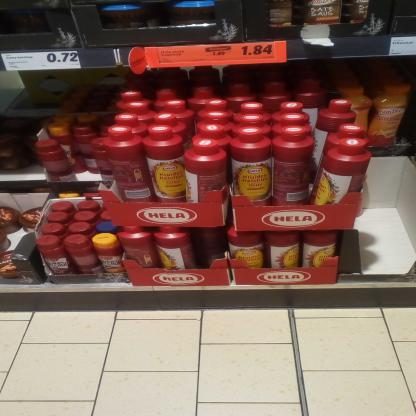prtg: (157, 43, 276, 65), (2, 52, 82, 72), (390, 37, 416, 57)
